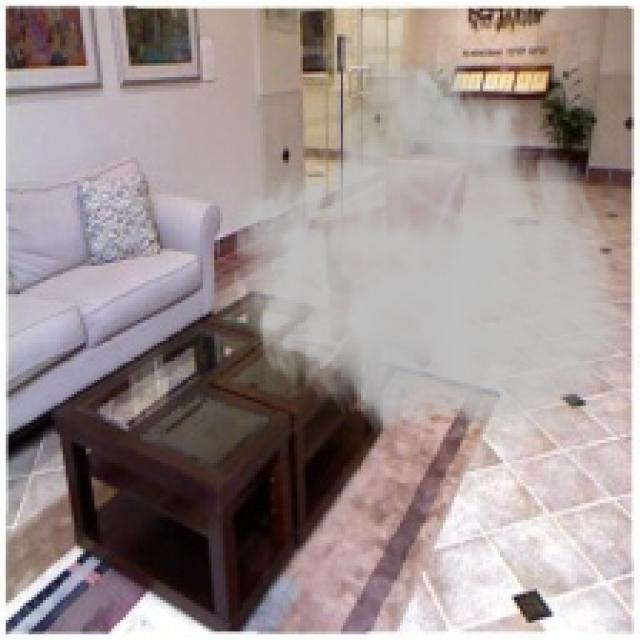smoke: (228, 37, 628, 452)
